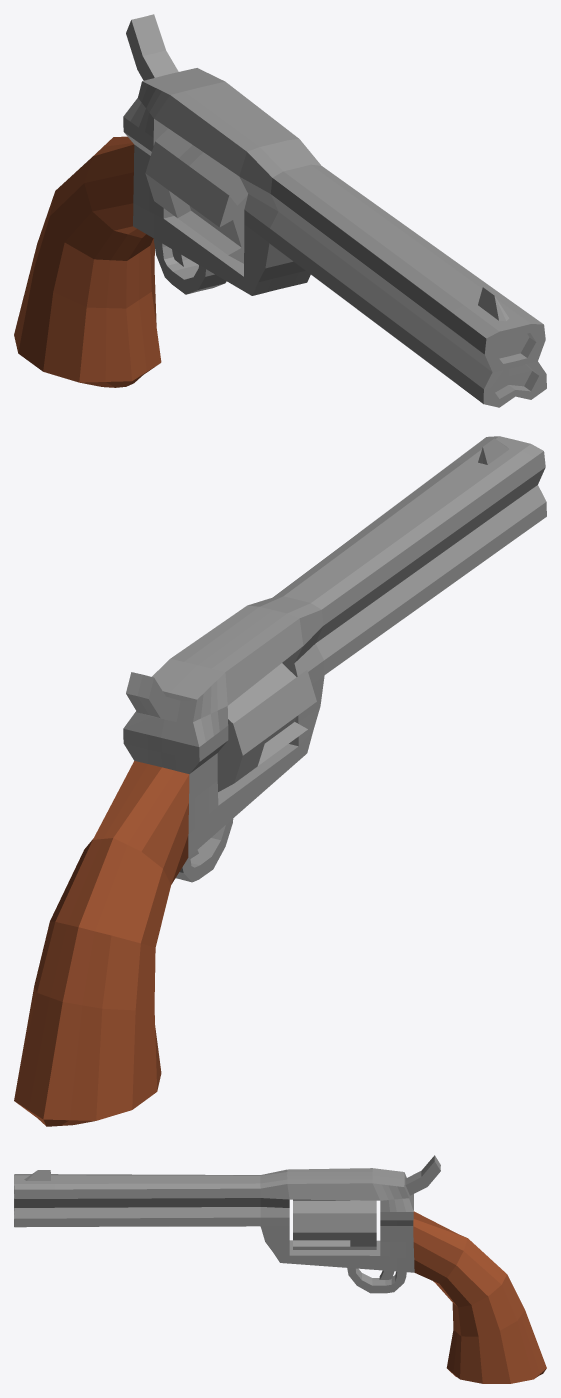
Rendered from Colt.glb.
3 renders of one model, top to bottom at view 1: azimuth 30°, elevation 25°; view 2: azimuth 150°, elevation 25°; view 3: azimuth 270°, elevation 25°, orthographic. The views are drawn at different scales.
Parts seen in each view (by area): view 1: Pistolet_Colt canon, Pistolet_Colt poignee, Pistolet_Colt barillet; view 2: Pistolet_Colt canon, Pistolet_Colt poignee, Pistolet_Colt barillet; view 3: Pistolet_Colt canon, Pistolet_Colt poignee, Pistolet_Colt barillet.
Boxes of the visible parts, x1,y1,x2,y2 form: Pistolet_Colt canon: [123, 14, 546, 407]; Pistolet_Colt poignee: [14, 136, 161, 387]; Pistolet_Colt barillet: [145, 128, 247, 263]; Pistolet_Colt canon: [123, 436, 546, 882]; Pistolet_Colt poignee: [14, 761, 189, 1126]; Pistolet_Colt barillet: [217, 663, 316, 791]; Pistolet_Colt canon: [14, 1155, 440, 1293]; Pistolet_Colt poignee: [413, 1211, 546, 1383]; Pistolet_Colt barillet: [293, 1199, 376, 1249].
Bounding box in the file's own units: 0.023 × 0.0735 × 0.1647.
2 materials, 2 textured.
